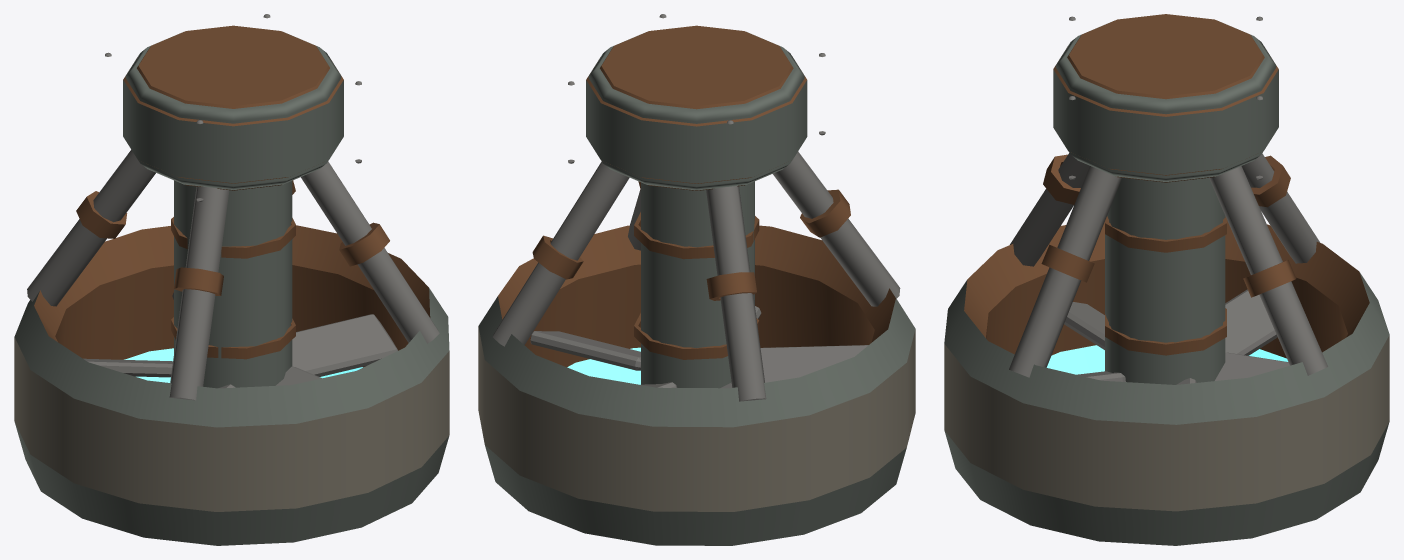
Rendered from R4X_HoverEngine.fbx.
3 renders of one model, left to right at view 1: azimuth 30°, elevation 25°; view 2: azimuth 150°, elevation 25°; view 3: azimuth 270°, elevation 25°, orthographic. The views are drawn at different scales.
Parts seen in each view (by area): view 1: R4X_HoverEngine_Body, R4X_HoverEngine_Fan; view 2: R4X_HoverEngine_Body, R4X_HoverEngine_Fan; view 3: R4X_HoverEngine_Body, R4X_HoverEngine_Fan.
Part boxes in pixels (x1,y1,x2,y2): R4X_HoverEngine_Body: (14, 14, 449, 545); R4X_HoverEngine_Fan: (83, 292, 397, 388); R4X_HoverEngine_Body: (478, 14, 915, 545); R4X_HoverEngine_Fan: (530, 306, 868, 388); R4X_HoverEngine_Body: (944, 14, 1389, 545); R4X_HoverEngine_Fan: (1064, 289, 1289, 384).
Size of the model in its own units: 0.5133 by 0.52 by 0.5132.
